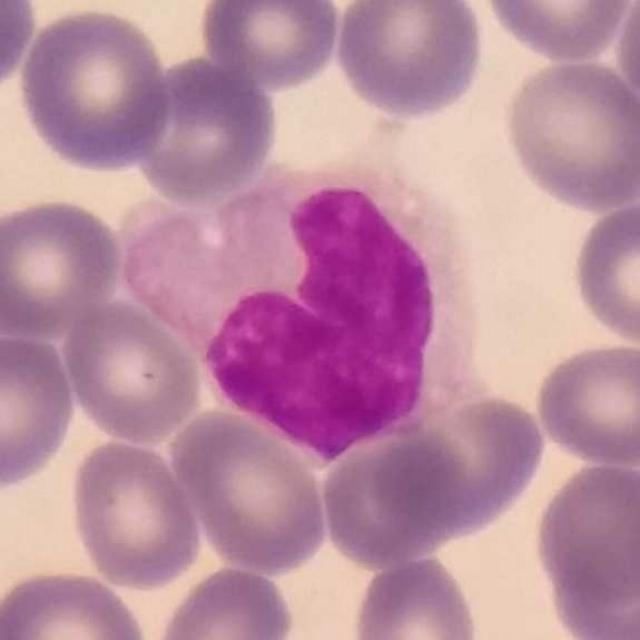Monocyte: (116, 158, 482, 458)
RBC: (167, 404, 334, 578), (13, 3, 175, 176), (382, 389, 551, 542), (128, 53, 282, 207), (59, 296, 207, 448), (315, 425, 469, 571), (498, 55, 640, 213), (64, 435, 204, 592), (330, 0, 489, 121), (528, 456, 640, 627), (0, 192, 126, 342), (531, 338, 640, 470), (194, 0, 345, 91), (0, 328, 79, 497), (348, 552, 484, 640), (150, 563, 298, 640), (0, 565, 152, 639), (567, 196, 640, 350), (475, 0, 638, 65), (537, 539, 640, 639), (0, 0, 41, 98), (612, 1, 640, 119)
